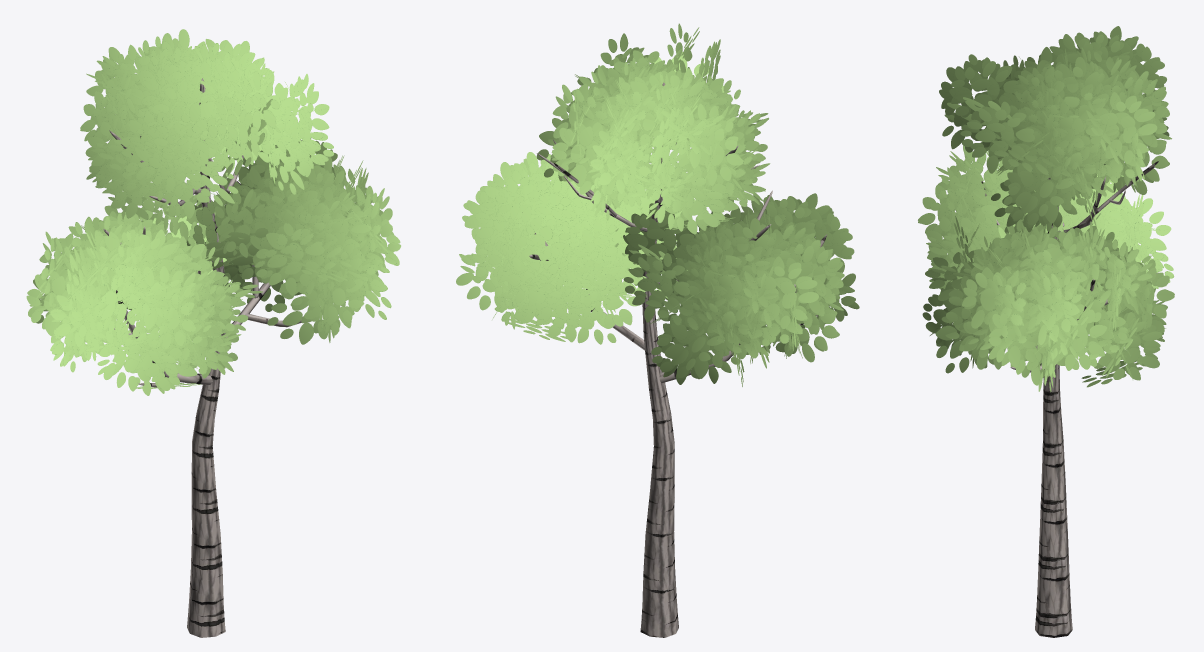
Rendered from BirchTree_4.glb.
3 renders of one model, left to right at view 1: azimuth 30°, elevation 25°; view 2: azimuth 150°, elevation 25°; view 3: azimuth 270°, elevation 25°, orthographic.
Parts seen in each view (by area): view 1: BirchTree_4; view 2: BirchTree_4; view 3: BirchTree_4.
Boxes of the visible parts, x1=… form: BirchTree_4: x1=26, y1=29, x2=400, y2=637; BirchTree_4: x1=456, y1=23, x2=859, y2=637; BirchTree_4: x1=918, y1=26, x2=1174, y2=637.
Bounding box in the file's own units: 2.78 × 4.21 × 1.84.
Materials: 2 (2 with a texture image).
